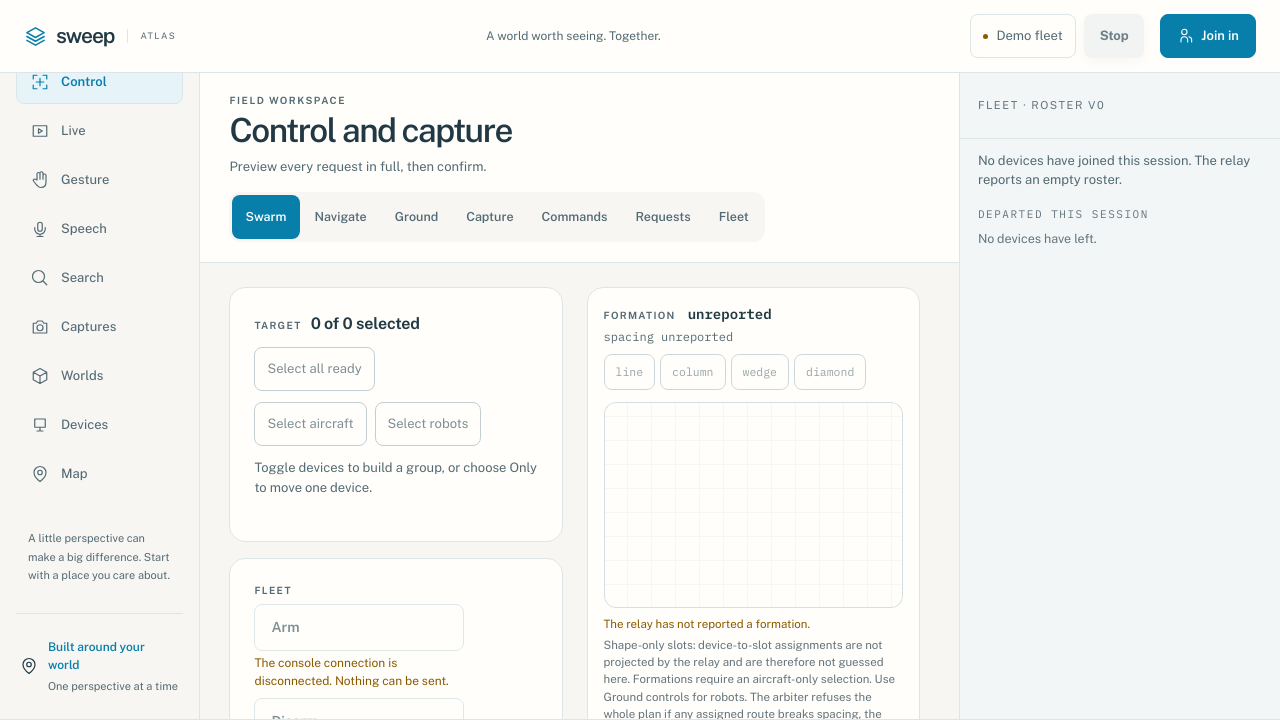
Connectivity module › degraded: both sockets down leaves no rung held and marks the relay rows danger
(page scrolled)
Click the button "Devices". click: (100, 425)
box: x1=16 y1=403 x2=183 y2=447
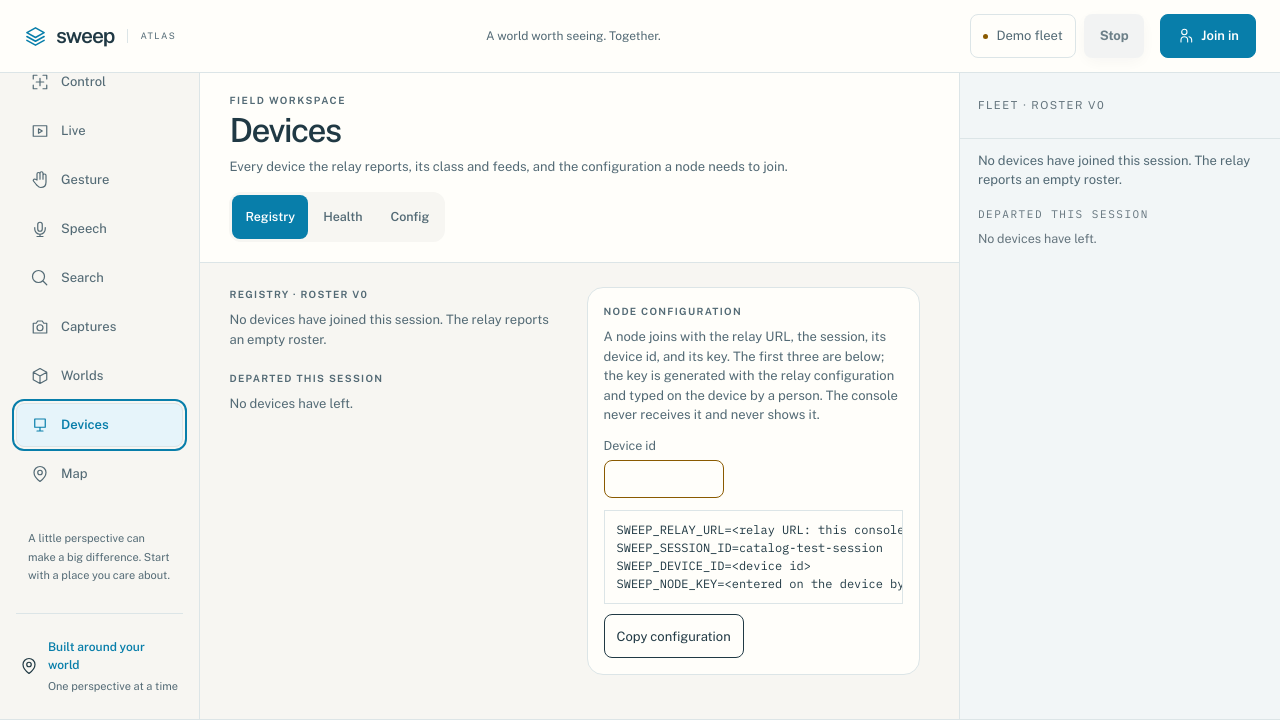
Click the button "Health". click: (343, 217)
box: x1=310 y1=195 x2=376 y2=239
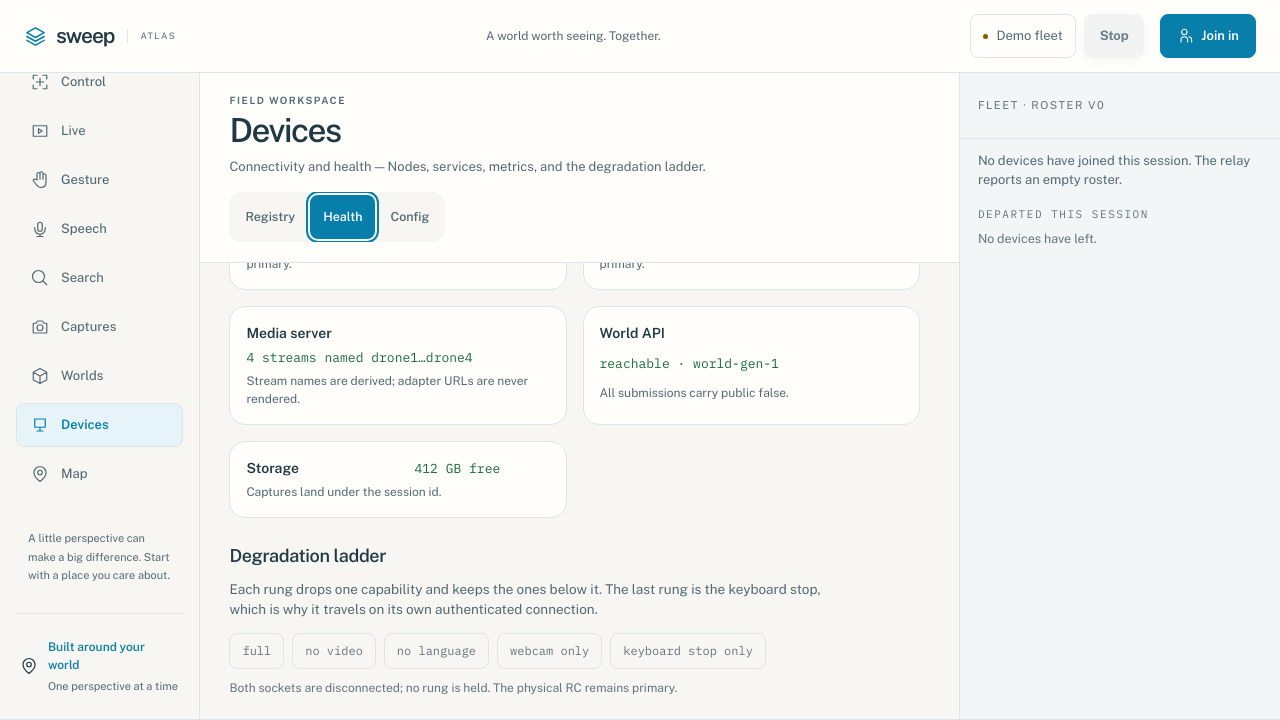
Check: the text "Connectivity and health — Nodes, services, metrics" is shown, box x1=229 y1=159 x2=706 y2=174
Check: the text "Both sockets are disconnected; no rung is held. The physical RC remains primary." is shown, box x1=229 y1=681 x2=677 y2=695
